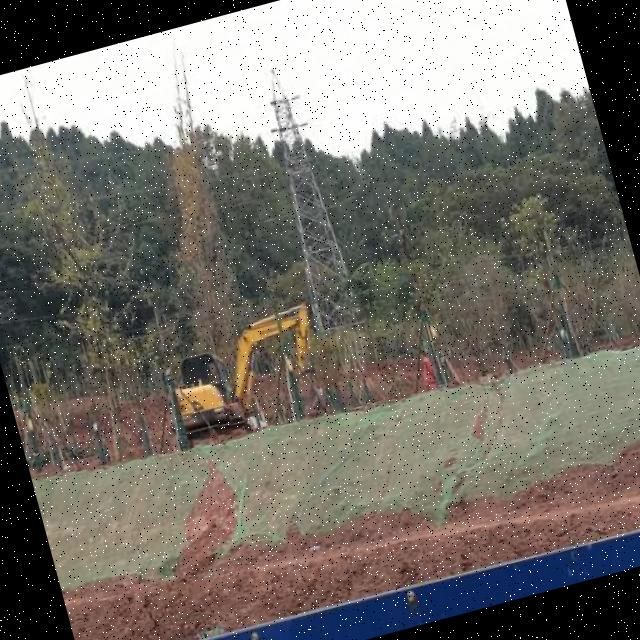Excavator: (152, 297, 332, 446)
